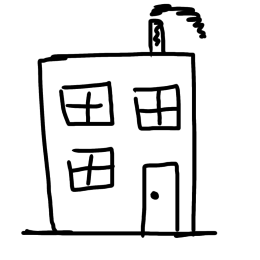closed_window: (54, 75, 119, 135), (128, 77, 189, 137), (58, 137, 119, 196)
door: (135, 155, 187, 243)
single_line_roof: (26, 46, 205, 75)
smoking_chimney: (138, 0, 208, 55)
wall: (34, 45, 203, 241)
